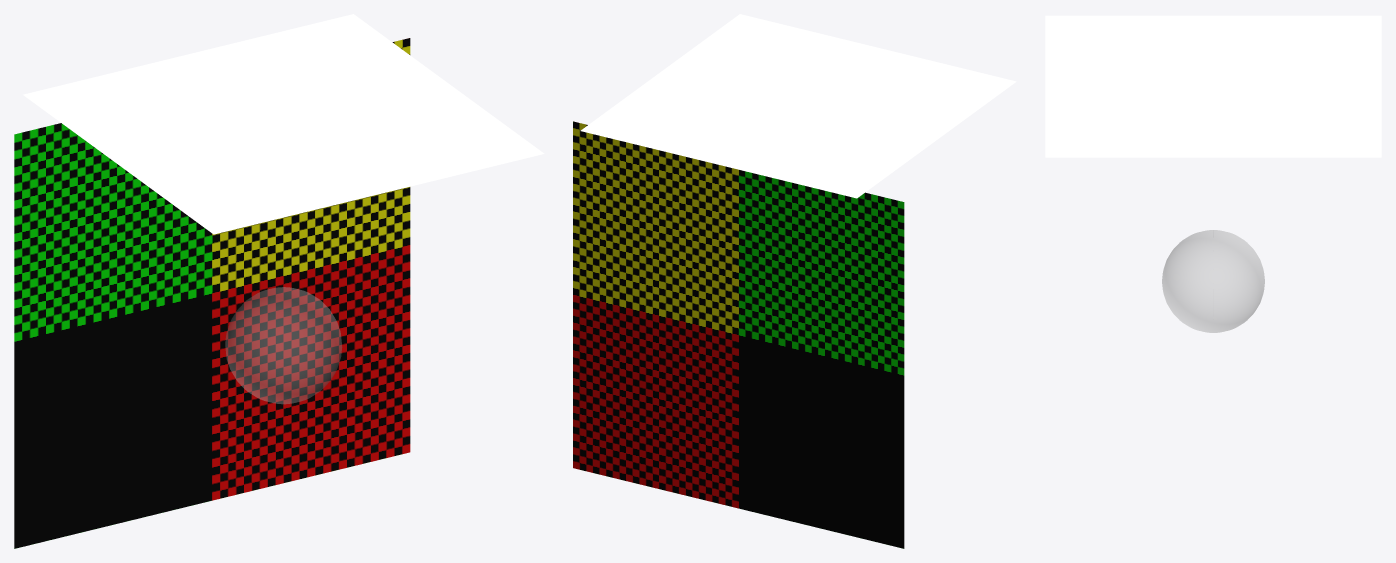
File: glass_test.glb
3 renders of one model, left to right at view 1: azimuth 30°, elevation 25°; view 2: azimuth 150°, elevation 25°; view 3: azimuth 270°, elevation 25°, orthographic. The views are drawn at different scales.
Parts seen in each view (by area): view 1: Checkerboard, Plane, Sphere_Glass; view 2: Checkerboard, Plane; view 3: Plane, Sphere_Glass.
Part boxes in pixels (x1,y1,x2,y2): Checkerboard: [14, 38, 410, 548]; Plane: [23, 14, 544, 234]; Sphere_Glass: [225, 287, 341, 403]; Checkerboard: [573, 121, 904, 548]; Plane: [580, 14, 1016, 198]; Plane: [1045, 15, 1381, 157]; Sphere_Glass: [1162, 230, 1264, 332].
Bounding box in the file's own units: 1.87 × 1.93 × 1.56.
3 materials, 1 textured.
